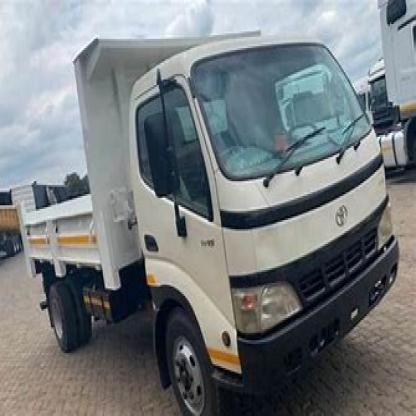dump_truck: (15, 30, 410, 414)
